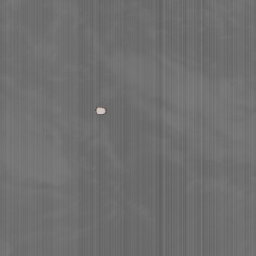Target: (94, 105, 109, 116)
